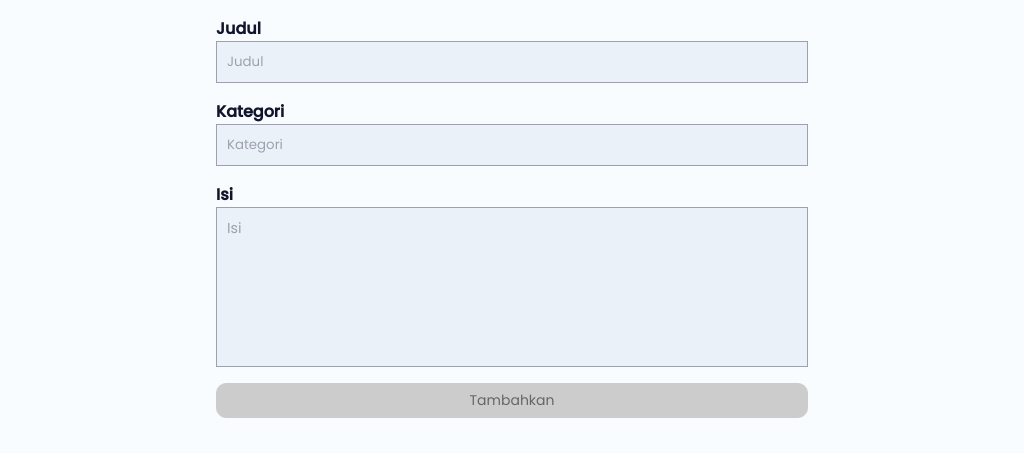
Test case: ThreadForm component › should show invalid body message when body is empty
Click the field with test id "body". click: (512, 287)
box: [216,207,808,367]
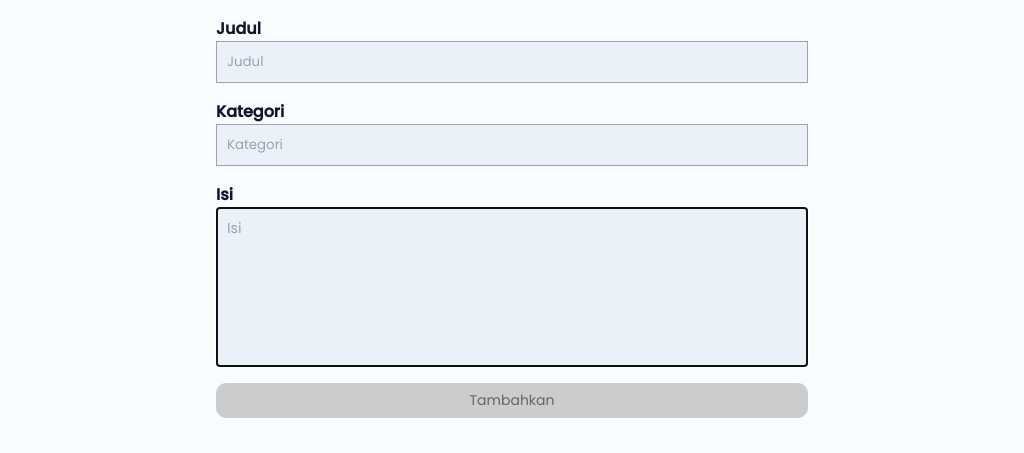
Click the element showing "Judul Kategori Isi Tambahkan". click: (512, 217)
box: [0,0,1023,434]
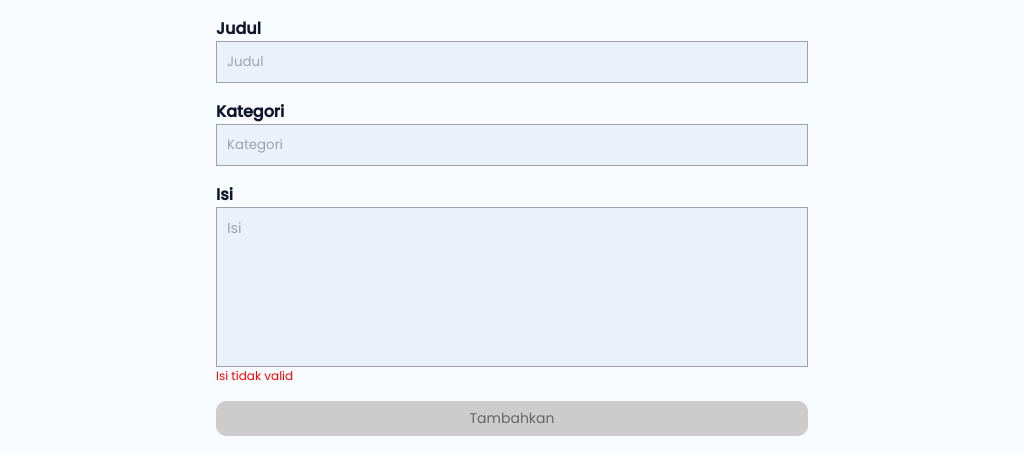
Expected: the text "Isi tidak valid" is shown, [216,367,293,384]
